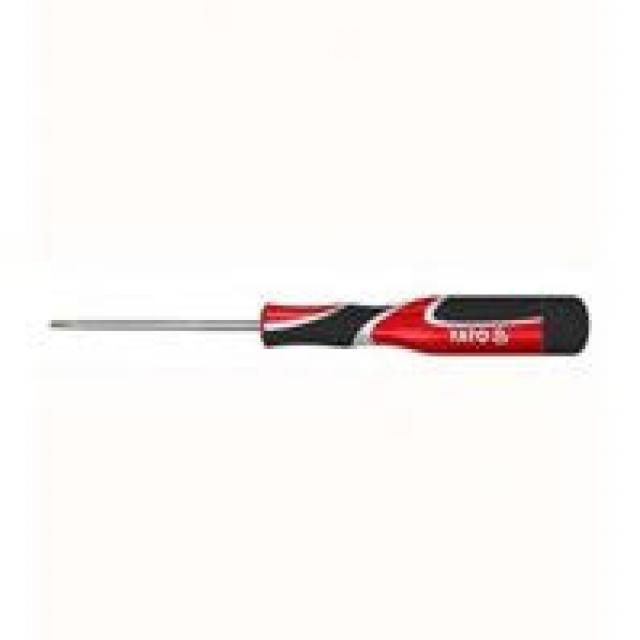screwdriver: (48, 290, 595, 356)
